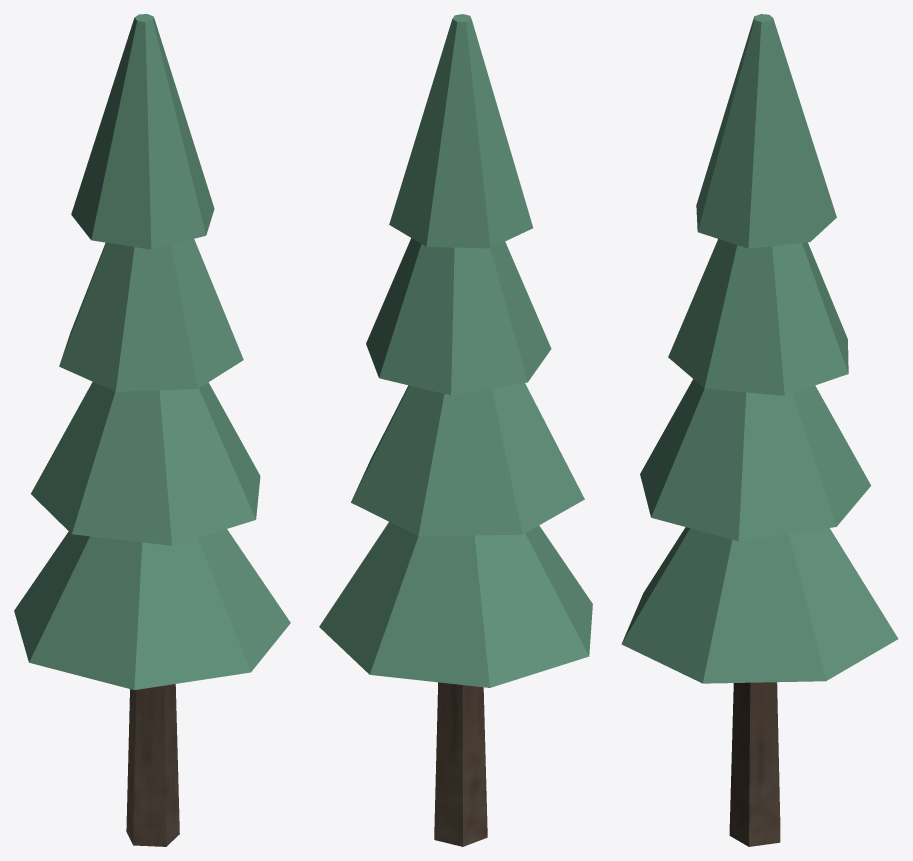
Rendered from arv_pinheiro_5.glb.
The picture shows the model from 3 angles, left to right: view 1: azimuth 30°, elevation 25°; view 2: azimuth 150°, elevation 25°; view 3: azimuth 270°, elevation 25°; orthographic projection.
Visible parts, largest first — view 1: arv_pinheiro_5; view 2: arv_pinheiro_5; view 3: arv_pinheiro_5.
Part boxes in pixels (x1=…): arv_pinheiro_5: x1=14, y1=14, x2=290, y2=846; arv_pinheiro_5: x1=319, y1=14, x2=592, y2=846; arv_pinheiro_5: x1=621, y1=14, x2=898, y2=846.
Bounding box in the file's own units: 0.8243 × 2.72 × 0.8367.
2 materials, 1 textured.
